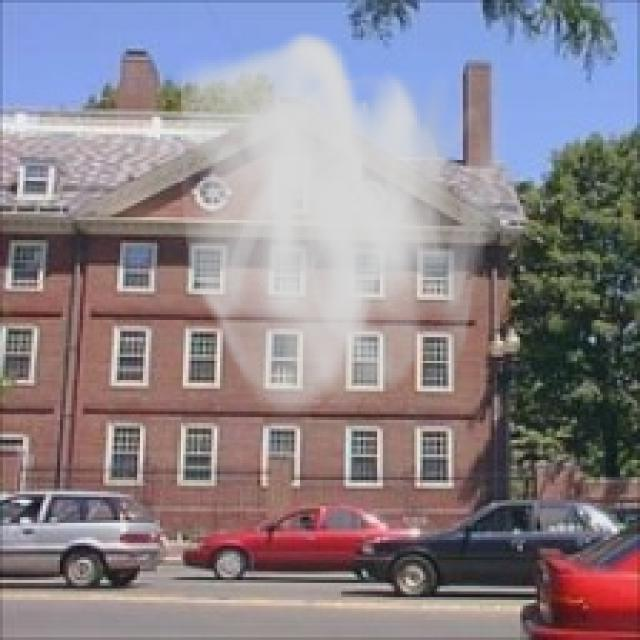Smoke: (168, 29, 512, 428)
